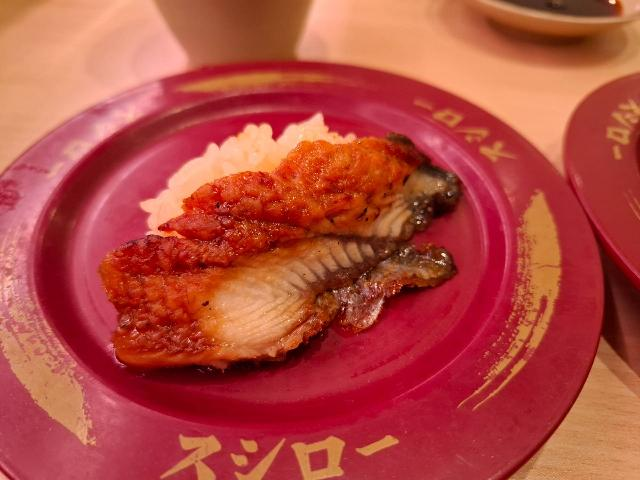janred: (0, 56, 560, 443), (549, 79, 640, 245)
